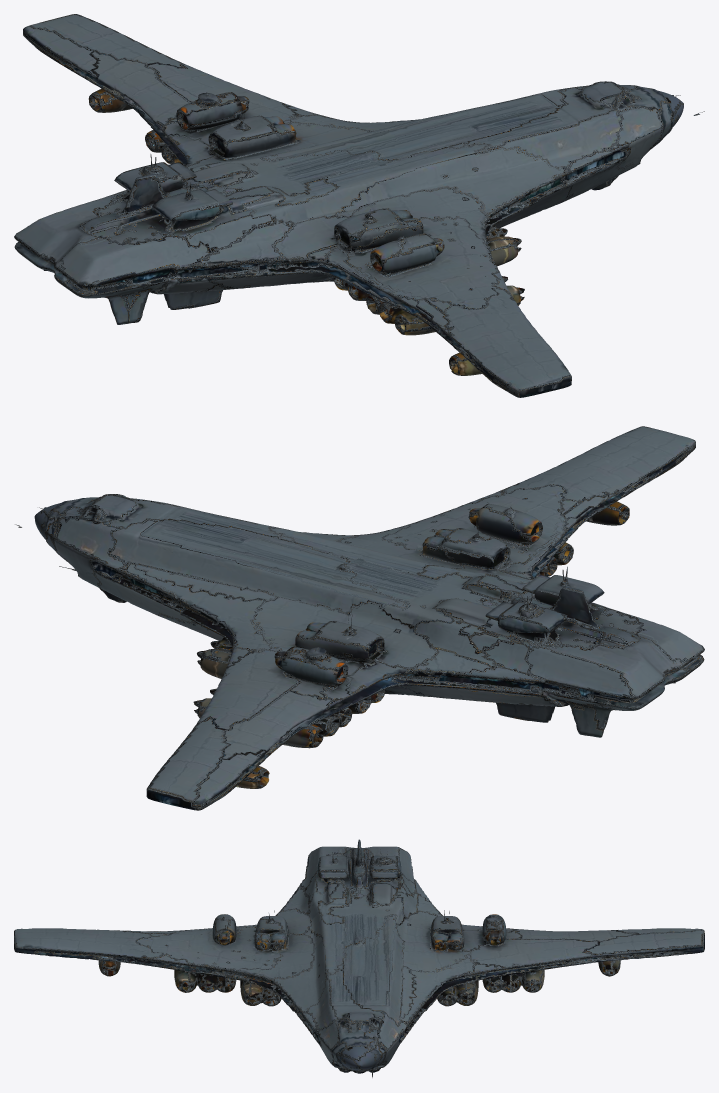
File: bomber.glb
3 renders of one model, top to bottom at view 1: azimuth 30°, elevation 25°; view 2: azimuth 150°, elevation 25°; view 3: azimuth 270°, elevation 25°, orthographic. The views are drawn at different scales.
Parts seen in each view (by area): view 1: node_0; view 2: node_0; view 3: node_0.
Part boxes in pixels (x1,y1,x2,y2): node_0: [14, 14, 704, 397]; node_0: [15, 426, 704, 810]; node_0: [14, 839, 704, 1077].
Size of the model in its own units: 0.8805 by 0.1595 by 1.17.
Materials: 1 (1 with a texture image).
